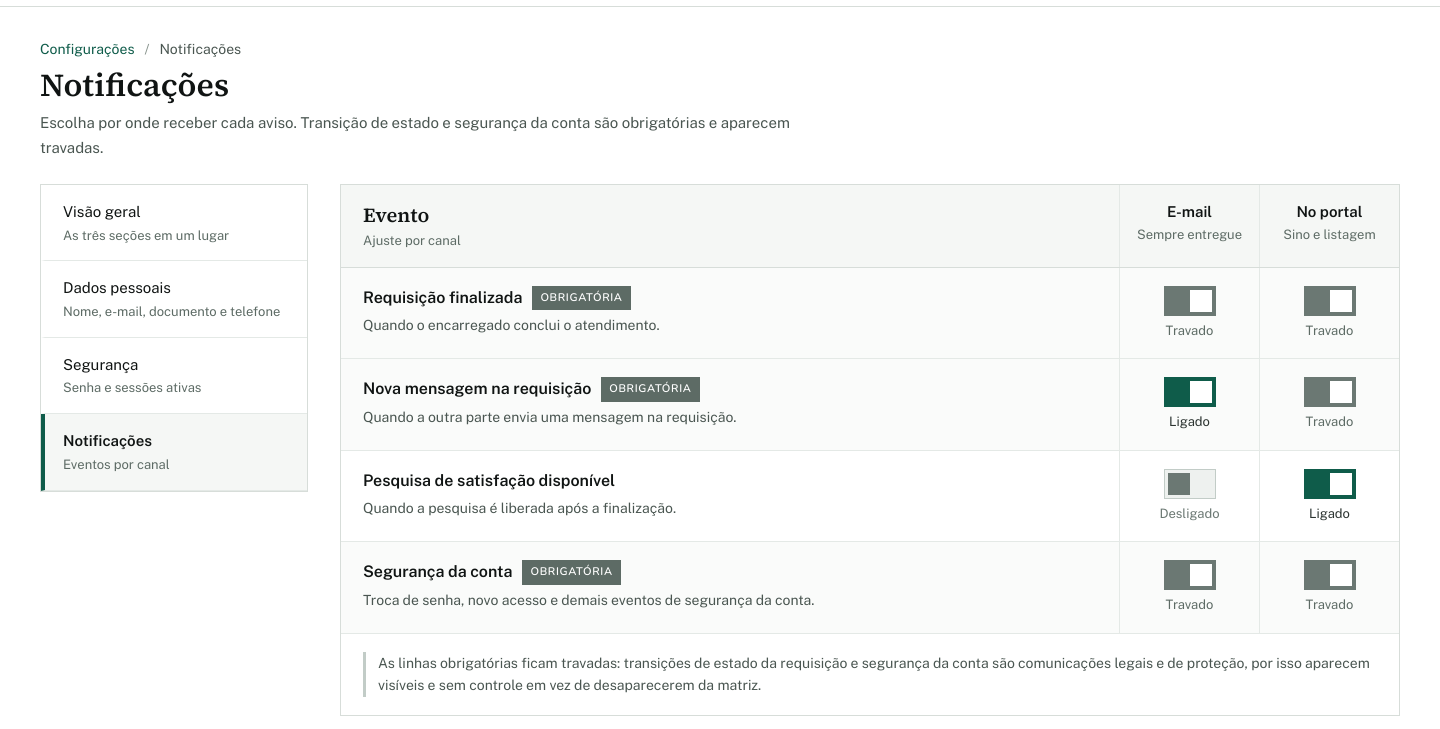
Scenario: Preferências de notificação › liga e desliga cada canal sem mexer nos outros e salva depois de confirmar
Click the switch named "E-mail para Pesquisa de satisfação disponível": (1190, 484) [1164,469,1216,499]
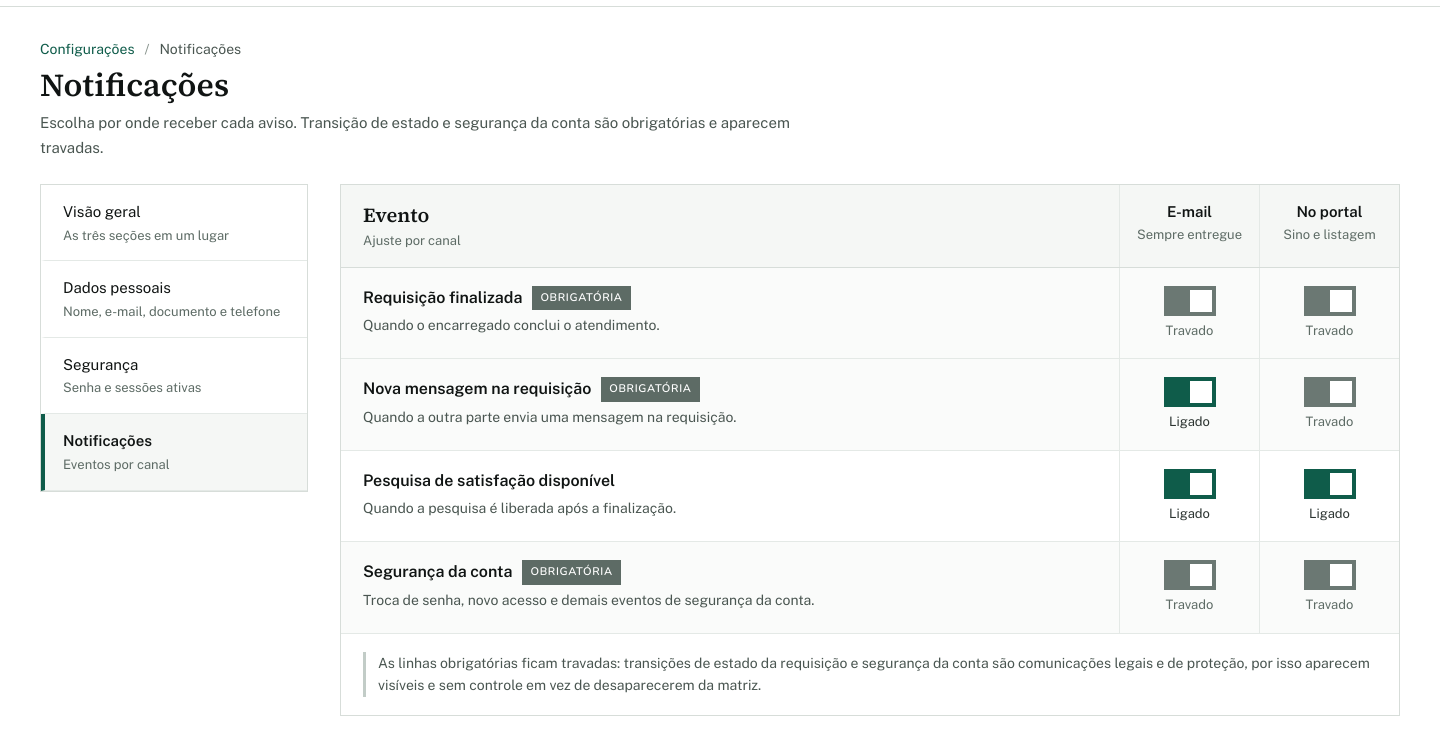
Now the switch named "E-mail para Pesquisa de satisfação disponível" is checked, box [1164,469,1216,499]
Scroll
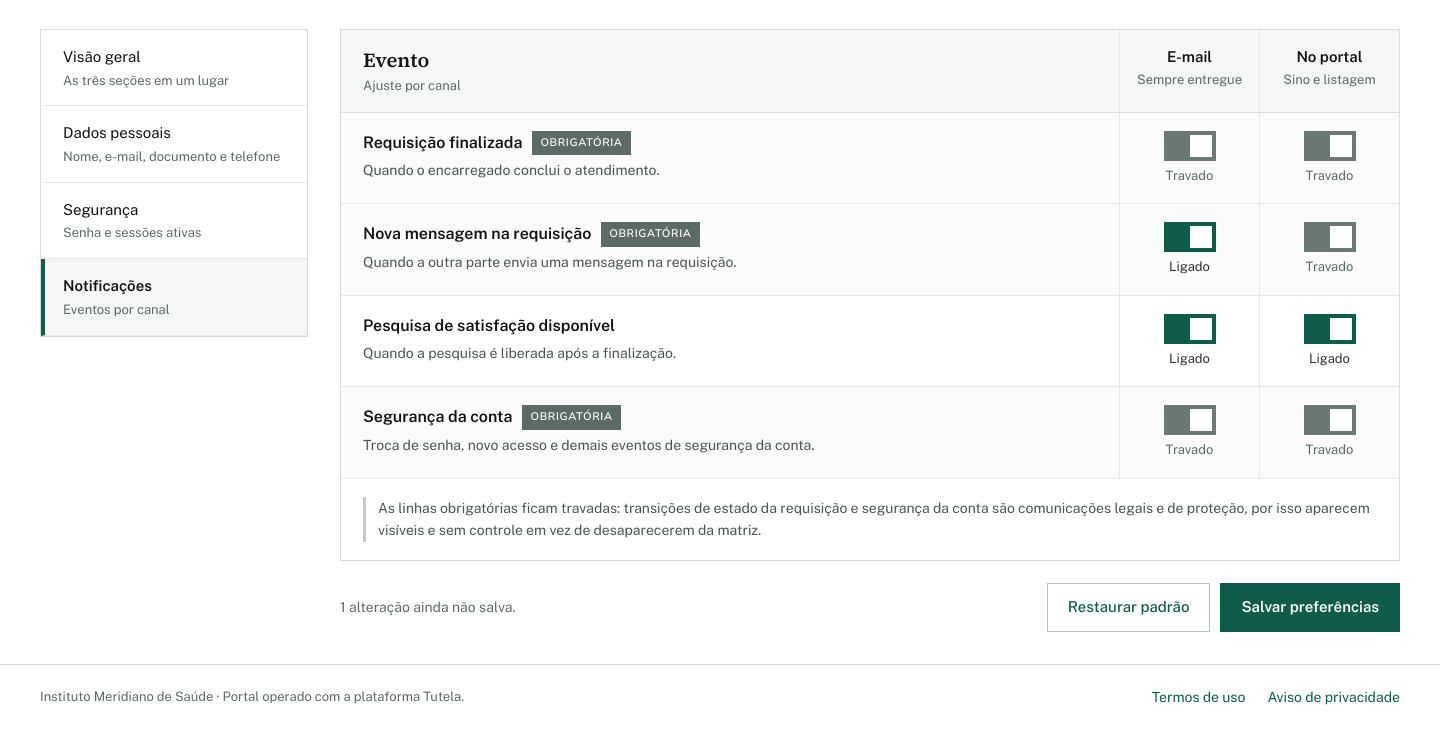
Click the button "Salvar preferências": (1310, 608) [1220,583,1400,632]
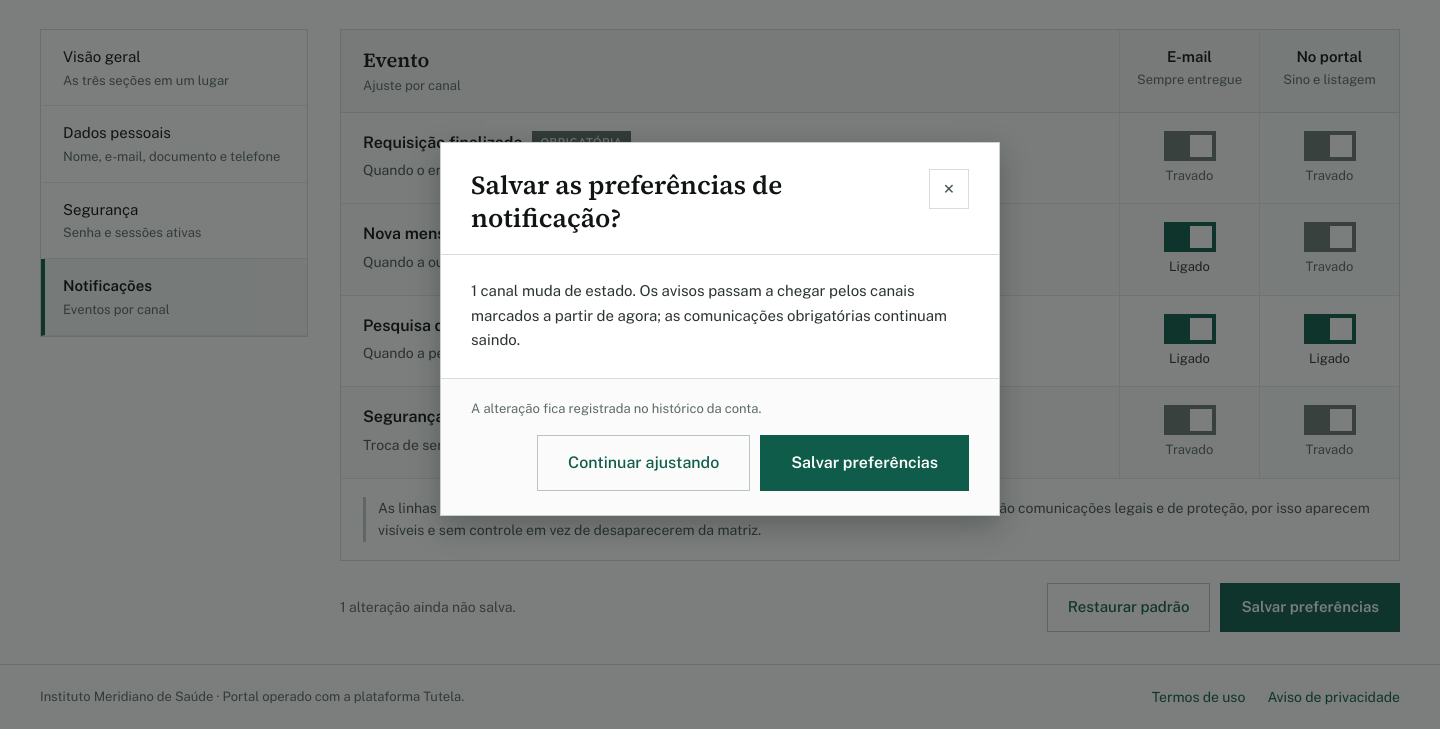
Click the button "Salvar preferências": (865, 463) [760,435,969,491]
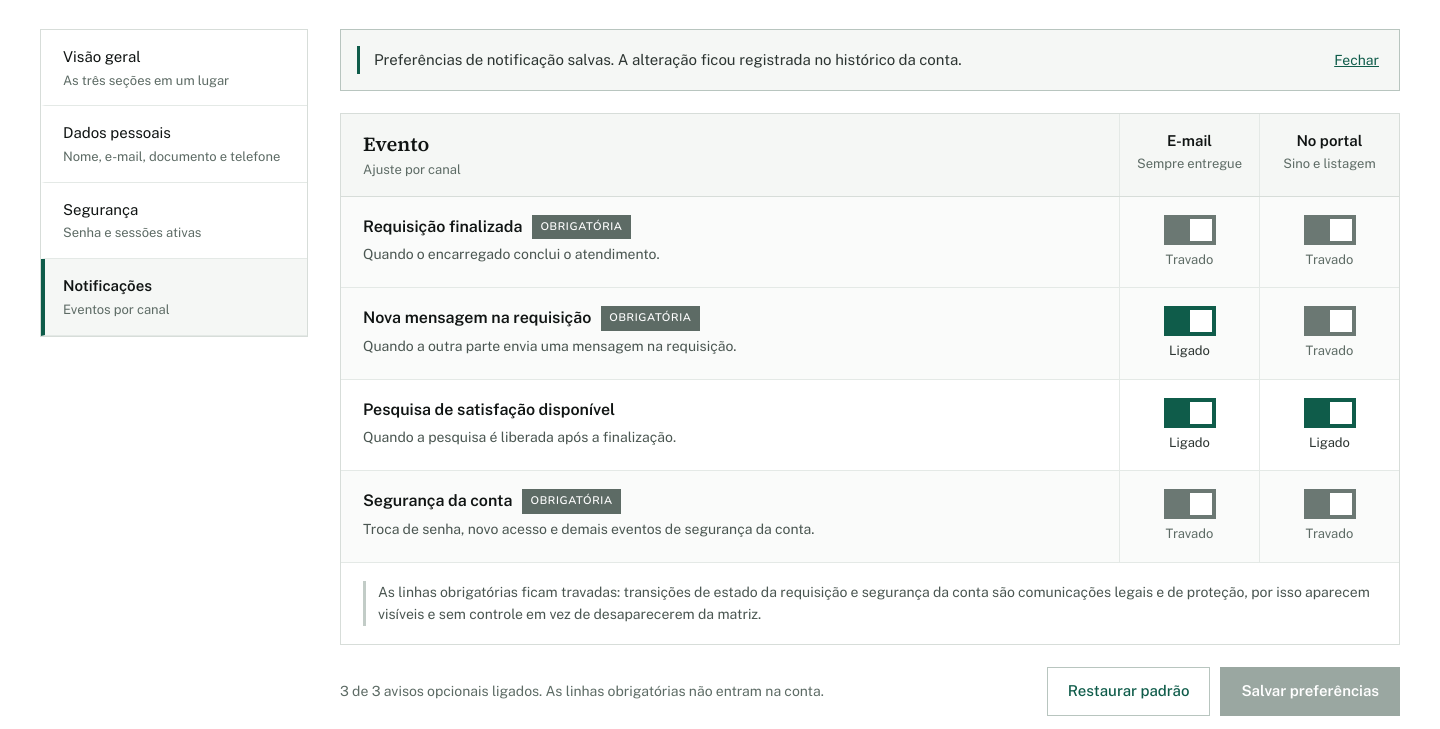
Now the text "Preferências de notificação salvas." is shown, box [374,51,962,68]
Now the button "Salvar preferências" is disabled, box [1220,667,1400,716]
